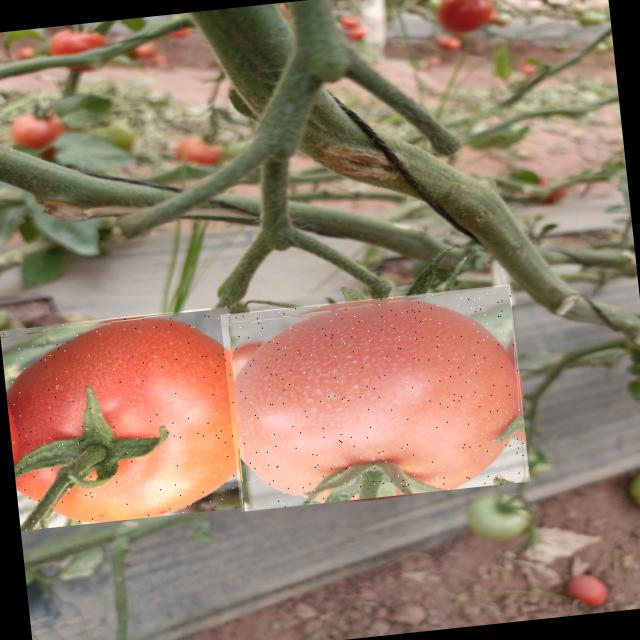Ripe Tomato: (220, 284, 530, 511), (0, 305, 249, 530)
